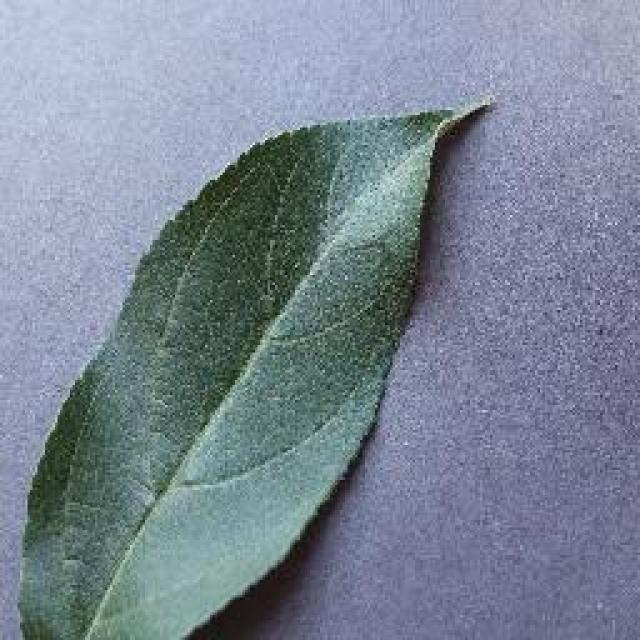Apple___healthy: (17, 93, 496, 638)
